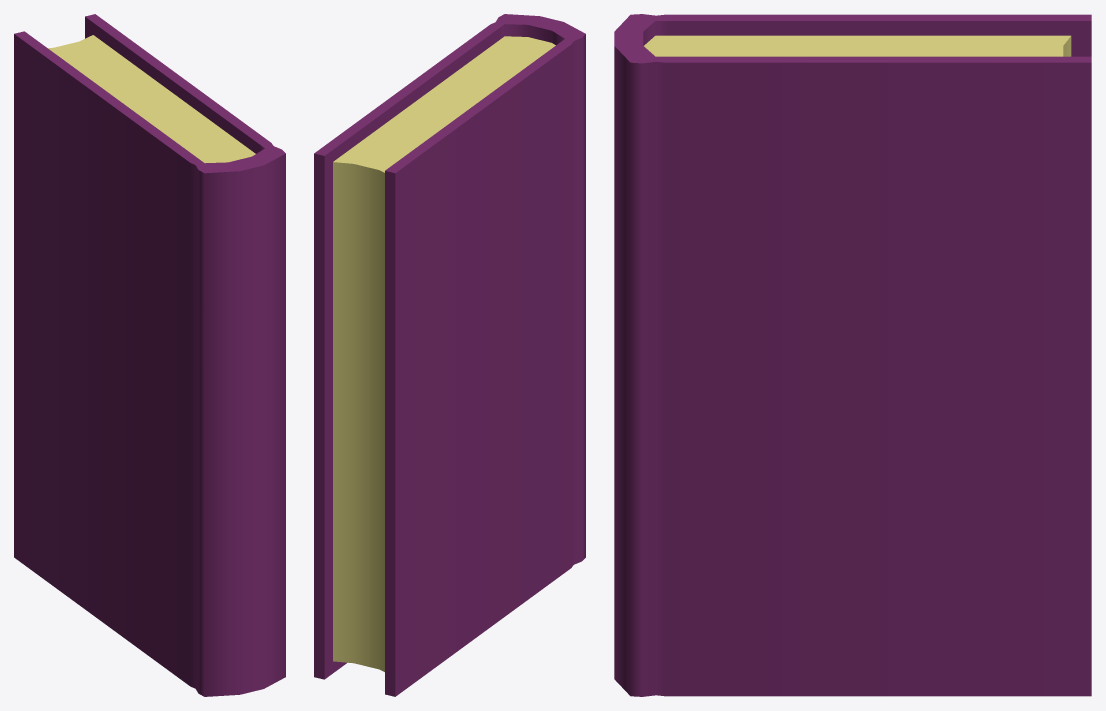
The model's file is book_purple.fbx.
3 renders of one model, left to right at view 1: azimuth 30°, elevation 25°; view 2: azimuth 150°, elevation 25°; view 3: azimuth 270°, elevation 25°, orthographic. The views are drawn at different scales.
Visible parts, largest first — view 1: Book_Small_Green; view 2: Book_Small_Green; view 3: Book_Small_Green.
Boxes of the visible parts, x1=… form: Book_Small_Green: x1=14, y1=14, x2=285, y2=696; Book_Small_Green: x1=314, y1=14, x2=585, y2=696; Book_Small_Green: x1=614, y1=14, x2=1091, y2=696.
Bounding box in the file's own units: 6.3 × 37.64 × 25.69.
